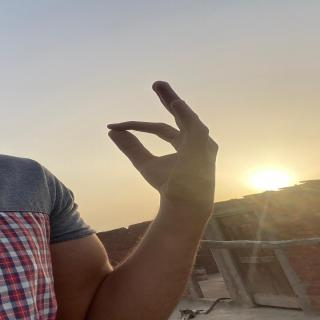Space: (104, 74, 224, 200)
